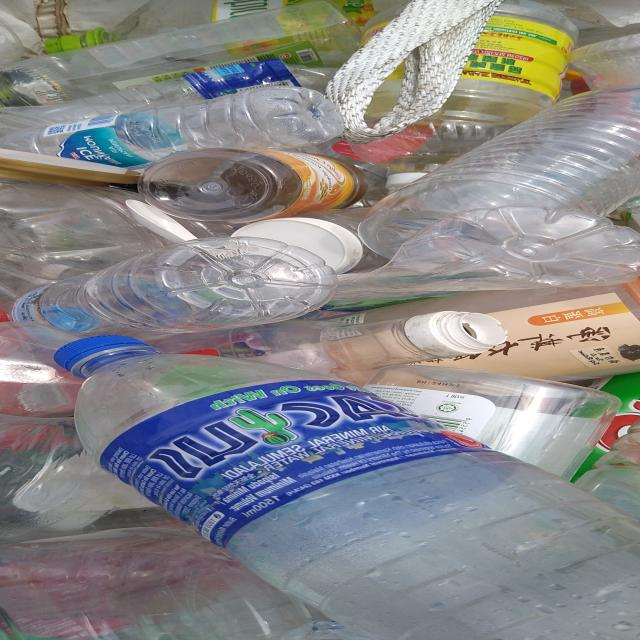plastic: (0, 338, 640, 640), (0, 57, 340, 334), (287, 73, 640, 338), (344, 3, 588, 157)
